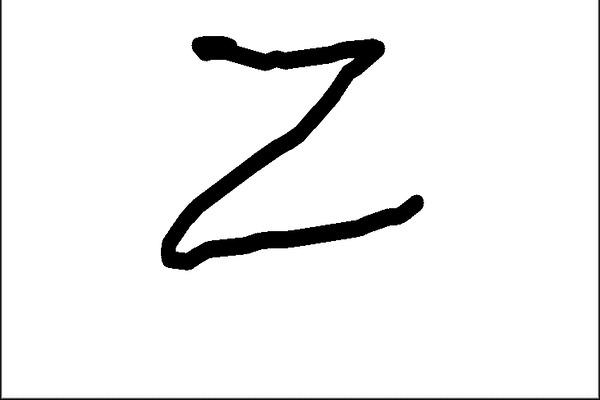Z: (156, 31, 451, 282)
